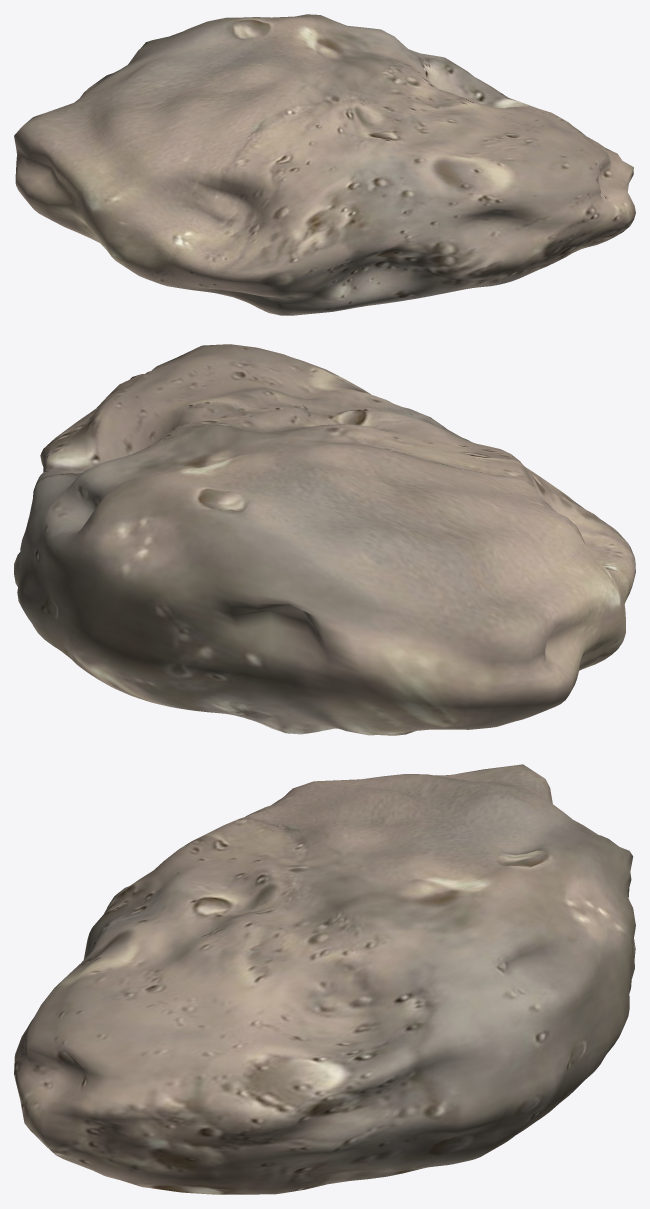
Rendered from amaltea.glb.
3 renders of one model, top to bottom at view 1: azimuth 30°, elevation 25°; view 2: azimuth 150°, elevation 25°; view 3: azimuth 270°, elevation 25°, orthographic. The views are drawn at different scales.
Visible parts, largest first — view 1: amalthea_0; view 2: amalthea_0; view 3: amalthea_0.
Boxes of the visible parts, x1,y1,x2,y2 form: amalthea_0: [14, 14, 635, 315]; amalthea_0: [14, 344, 635, 735]; amalthea_0: [14, 764, 635, 1194].
Size of the model in its own units: 168000 by 69493 by 142821.
1 material, 1 textured.
